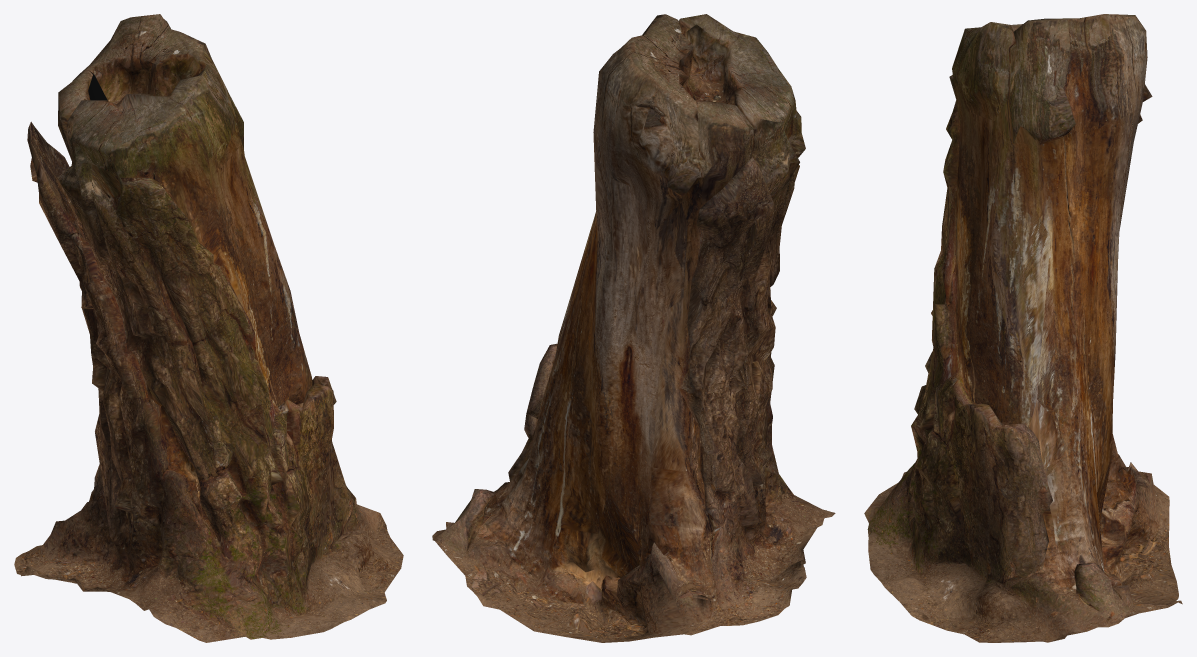
The model's file is TreeStump.fbx.
3 renders of one model, left to right at view 1: azimuth 30°, elevation 25°; view 2: azimuth 150°, elevation 25°; view 3: azimuth 270°, elevation 25°, orthographic. The views are drawn at different scales.
Visible parts, largest first — view 1: rcrwm_LOD0_TIER2_000; view 2: rcrwm_LOD0_TIER2_000; view 3: rcrwm_LOD0_TIER2_000.
Part boxes in pixels (x1=…): rcrwm_LOD0_TIER2_000: x1=14, y1=14, x2=403, y2=642; rcrwm_LOD0_TIER2_000: x1=432, y1=14, x2=835, y2=642; rcrwm_LOD0_TIER2_000: x1=864, y1=14, x2=1182, y2=642.
Size of the model in its own units: 8.21 by 12.86 by 6.63.
